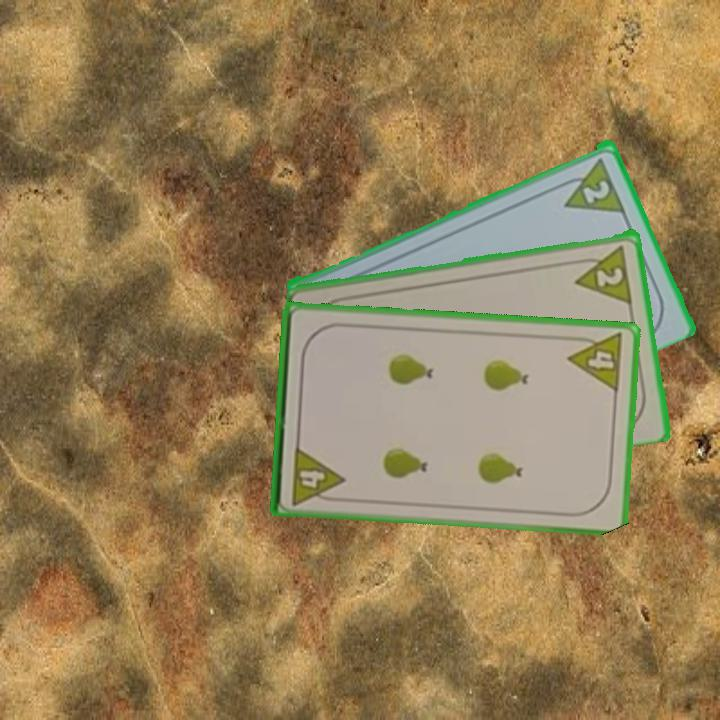2p: (579, 175, 613, 206), (593, 263, 627, 289)
4p: (565, 330, 626, 395), (288, 442, 346, 508)
